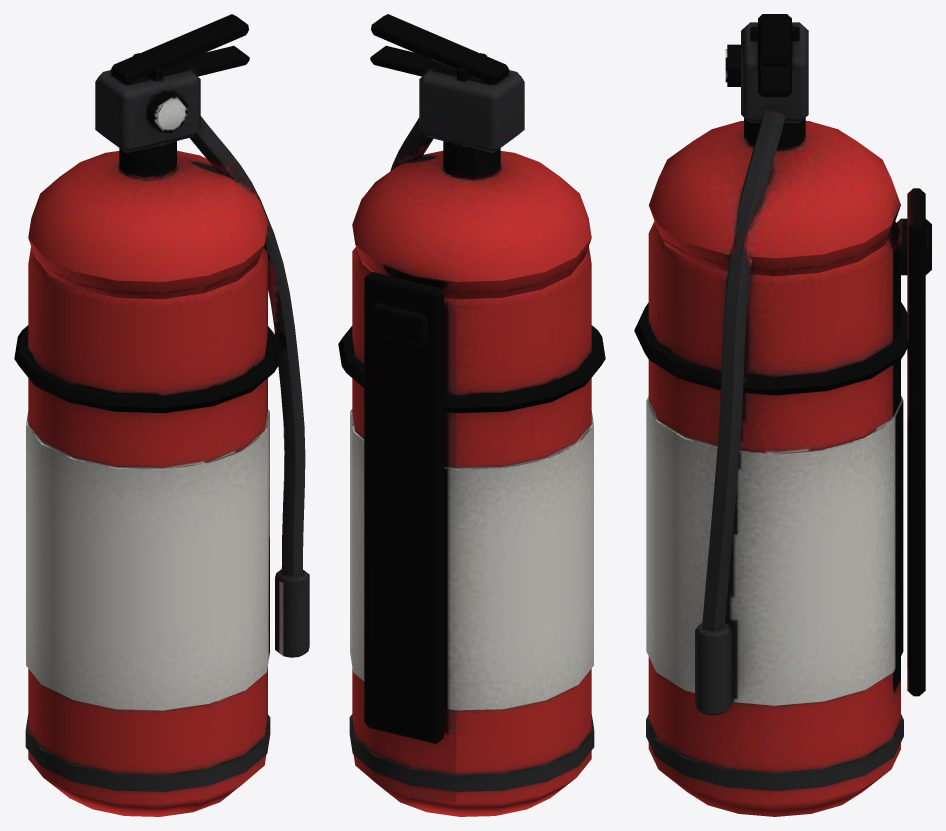
File: extinguisher.glb
3 views of the same model, side by side, from view 1: azimuth 30°, elevation 25°; view 2: azimuth 150°, elevation 25°; view 3: azimuth 270°, elevation 25° (orthographic). The views are drawn at different scales.
Parts seen in each view (by area): view 1: extinguisher; view 2: extinguisher; view 3: extinguisher.
Boxes of the visible parts, x1=… form: extinguisher: x1=14, y1=14, x2=309, y2=816; extinguisher: x1=338, y1=14, x2=605, y2=816; extinguisher: x1=634, y1=14, x2=931, y2=816.
Size of the model in its own units: 0.1955 by 0.5531 by 0.1935.
6 materials, 6 textured.
